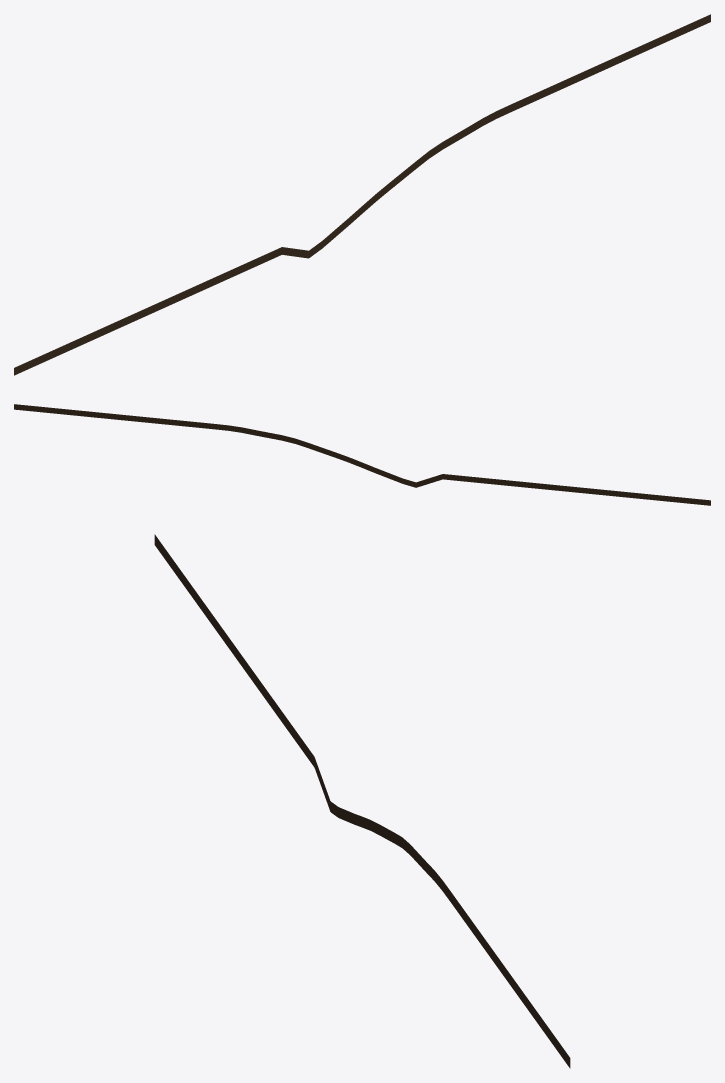
The picture shows the model from 3 angles, top to bottom: view 1: azimuth 30°, elevation 25°; view 2: azimuth 150°, elevation 25°; view 3: azimuth 270°, elevation 25°; orthographic projection. The views are drawn at different scales.
Parts seen in each view (by area): view 1: prototype; view 2: prototype; view 3: prototype.
Part boxes in pixels (x1,y1,x2,y2): prototype: (14,14,710,375); prototype: (14,404,710,505); prototype: (154,534,570,1068).
Bounding box in the file's own units: 24.88 × 1.77 × 7.55.
